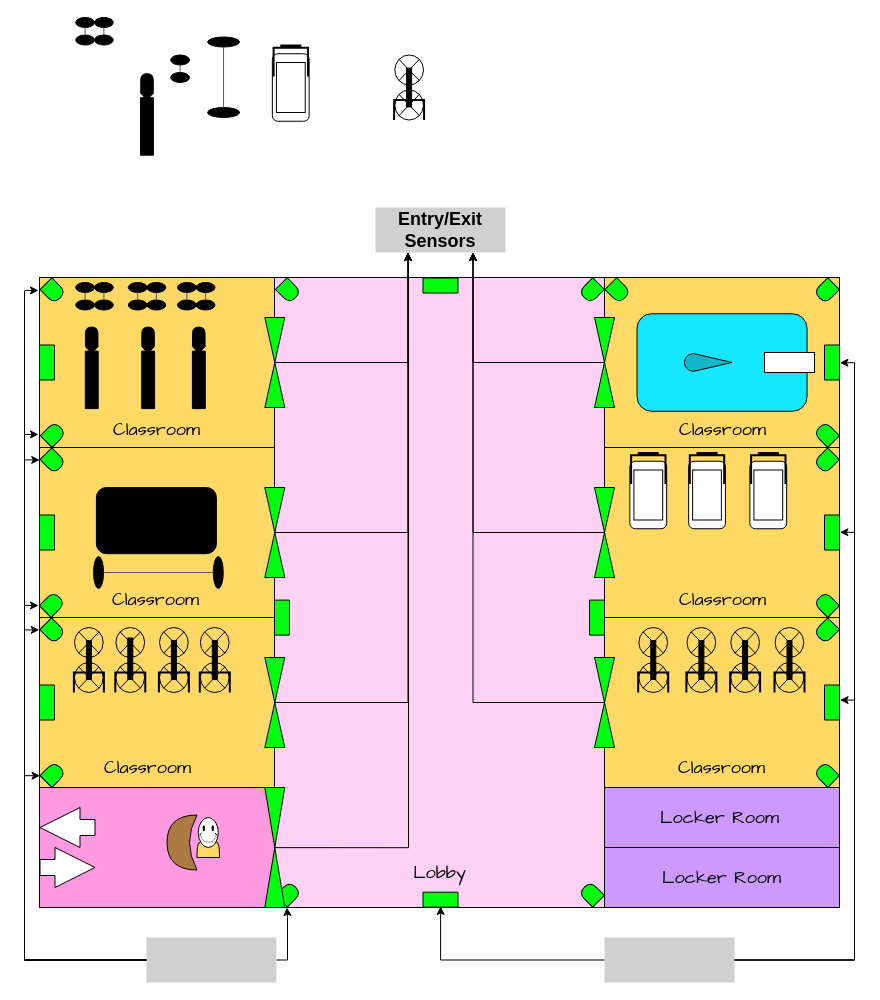
Image size: 880x1000. Some labels were removed from this diagram. Here are the shapes that lost their labels. From the top down, the centre of each, then its label:
At point 211,959: "Security Cameras".
At point 669,959: "Audio Sensors".
